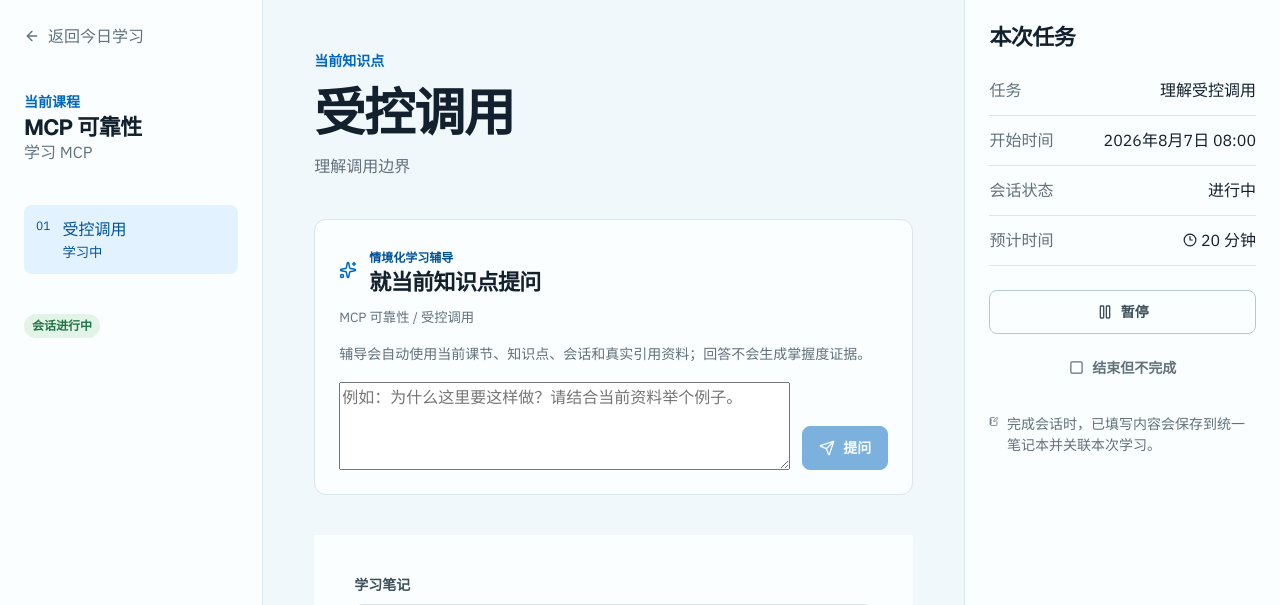
Test: V11C LearningSession 情境化辅导 › 自动提交学习位置并展示教学回答、引用和理解检查
Type "为什么需要受控边界？" into the text box named "向当前知识点的学习导师提问" at x=565, y=426, box [339,382,790,470]
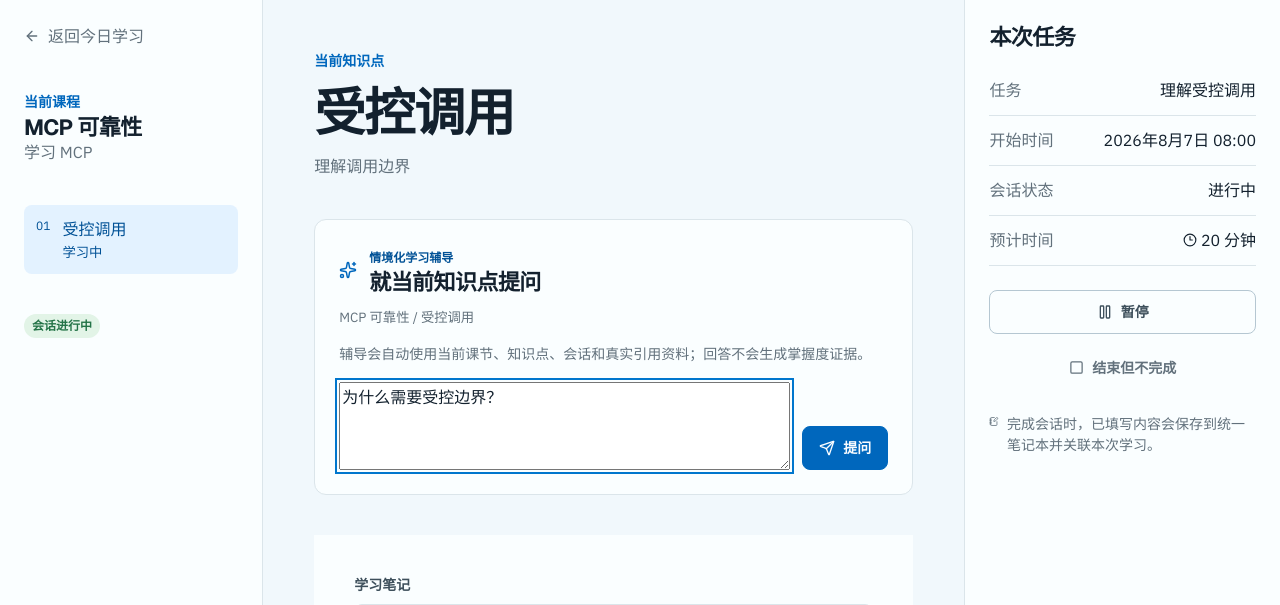
Click the button "提问" at x=845, y=448, box [802,426,888,470]
(page scrolled)
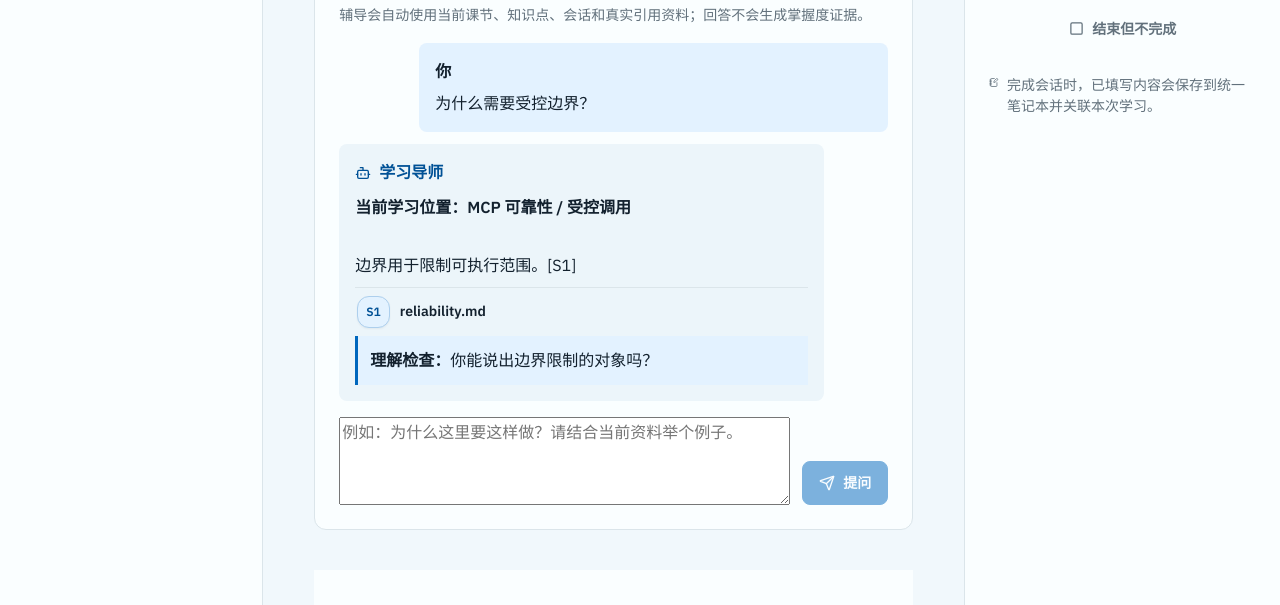
expect the text "边界用于限制可执行范围。[S1]" is shown: met, box [355,255,576,275]
expect the heading "S1 reliability.md" is shown: met, box [357,296,486,328]
expect the text "理解检查：你能说出边界限制的对象吗？" is shown: met, box [355,336,808,385]
